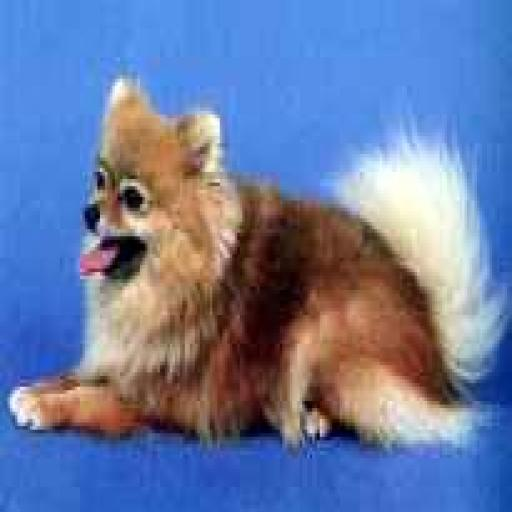dog_face: (81, 82, 214, 290)
